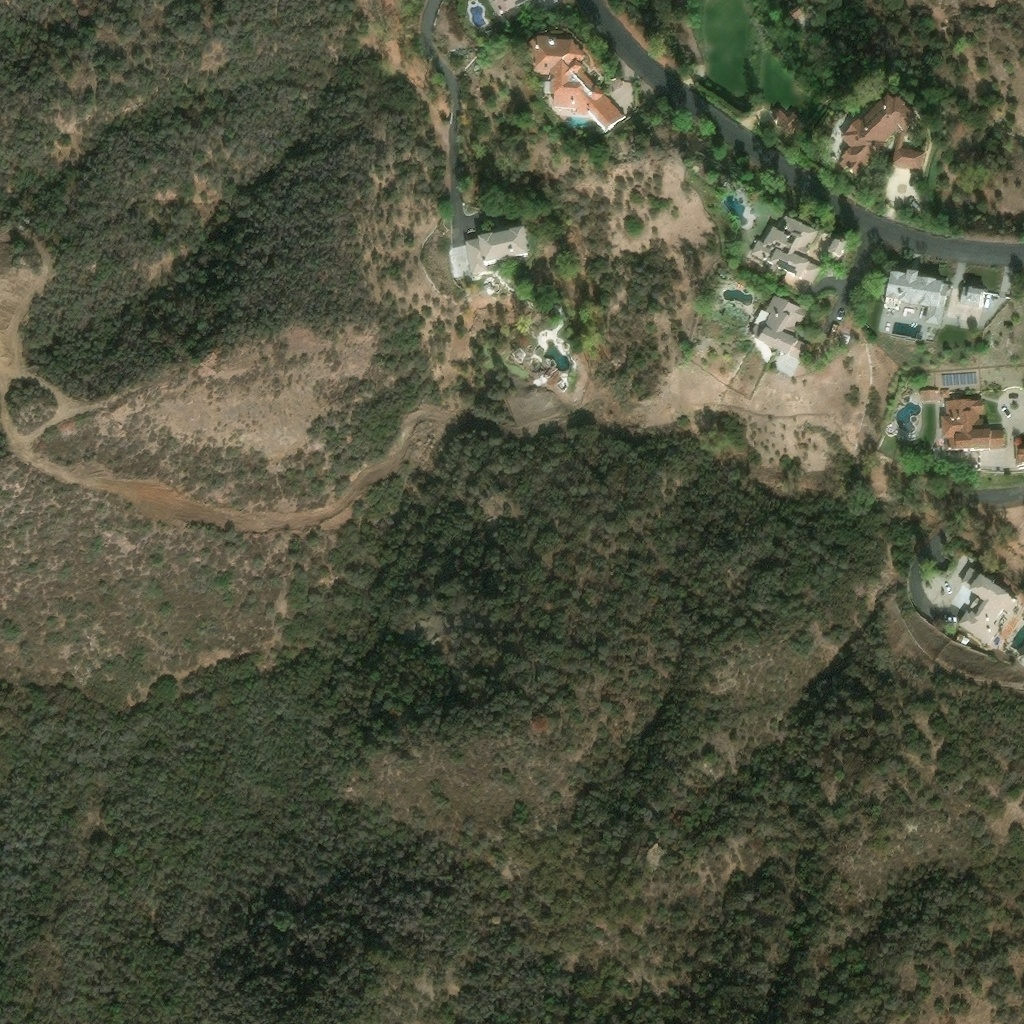0 no-damage: (527, 36, 627, 135), (750, 216, 850, 291), (839, 95, 918, 181), (954, 567, 1017, 650), (749, 294, 808, 361), (884, 271, 950, 328), (939, 400, 1006, 452), (465, 228, 529, 279), (489, 0, 533, 21), (892, 149, 925, 174), (959, 288, 987, 311), (773, 110, 801, 133), (920, 391, 941, 404), (1014, 440, 1023, 468), (789, 6, 803, 19), (942, 392, 949, 399)
